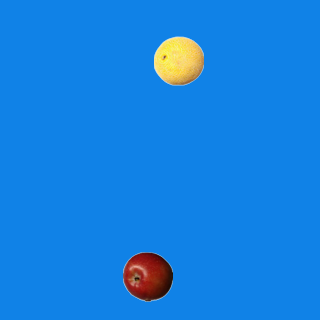Apple Braeburn: (122, 251, 172, 301)
Cantaloupe 1: (153, 35, 203, 85)
